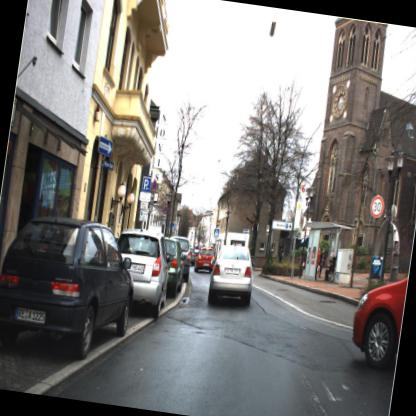mandatory: (211, 224, 223, 240)
prohibitory: (368, 191, 386, 221)
